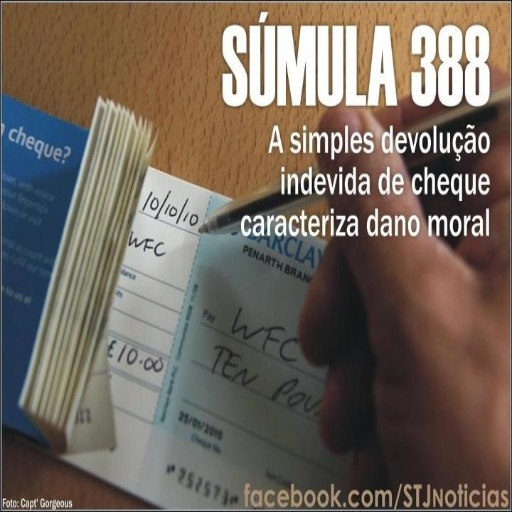hand: (295, 58, 510, 509)
